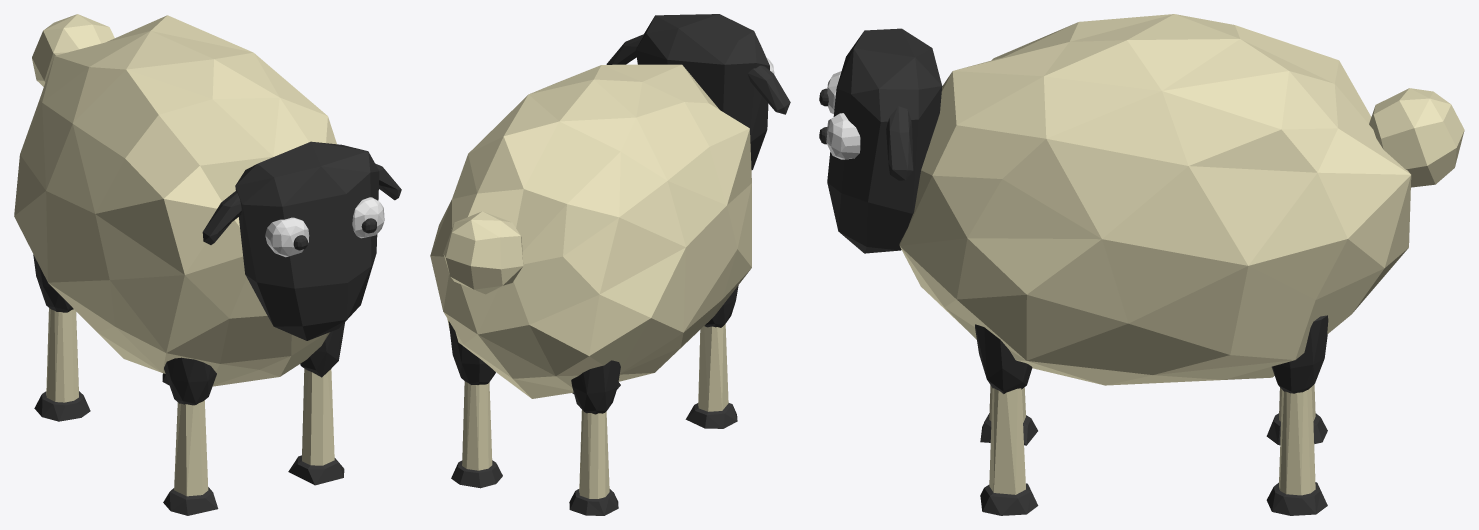
Rendered from Oveja.fbx.
3 views of the same model, side by side, from view 1: azimuth 30°, elevation 25°; view 2: azimuth 150°, elevation 25°; view 3: azimuth 270°, elevation 25° (orthographic). The views are drawn at different scales.
Visible parts, largest first — view 1: Cube; view 2: Cube; view 3: Cube.
Boxes of the visible parts, left/top/right/bottom form: Cube: left=14, top=14, right=401, bottom=515; Cube: left=430, top=14, right=790, bottom=515; Cube: left=819, top=14, right=1464, bottom=515.
Size of the model in its own units: 386 by 578 by 775.
